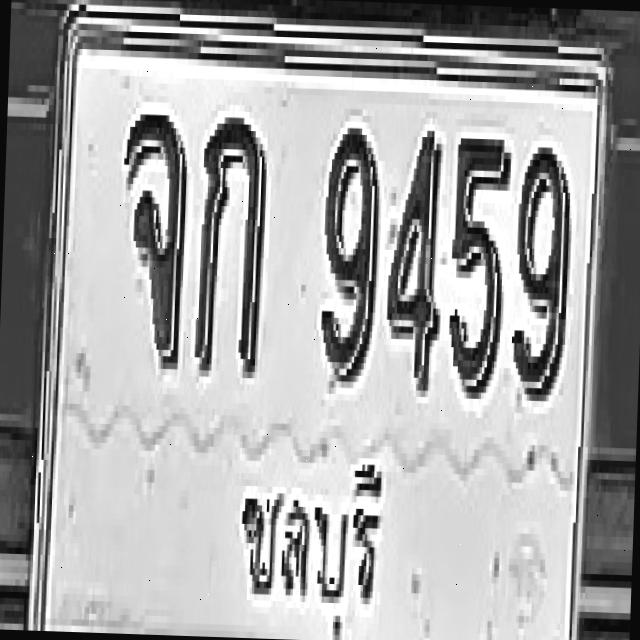10GorGai: (194, 110, 268, 378)
17ChorChan: (116, 107, 188, 369)
4: (383, 125, 445, 394)
5: (446, 132, 510, 400)
9: (509, 140, 572, 402), (318, 120, 380, 382)
Chonburi: (228, 434, 388, 640)
